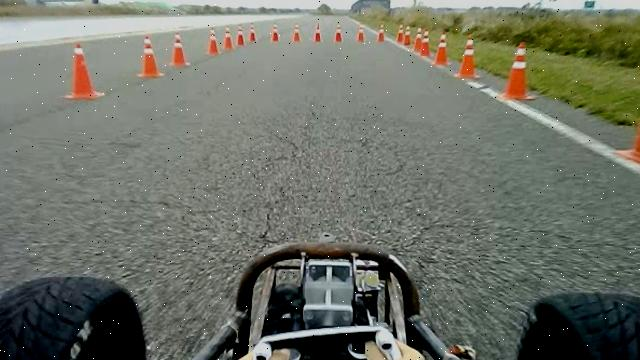red cone: (615, 63, 640, 166), (64, 42, 105, 100), (498, 40, 536, 100), (454, 35, 480, 79), (170, 31, 190, 67), (432, 31, 452, 66), (206, 26, 220, 56), (420, 28, 431, 56), (412, 26, 423, 52), (223, 26, 234, 51), (236, 25, 246, 46), (270, 23, 280, 43), (334, 22, 343, 42), (292, 23, 301, 43), (396, 24, 405, 42), (403, 25, 411, 45), (249, 22, 257, 42), (314, 23, 322, 42), (378, 23, 386, 42)
yellow cone: (137, 35, 164, 78)
